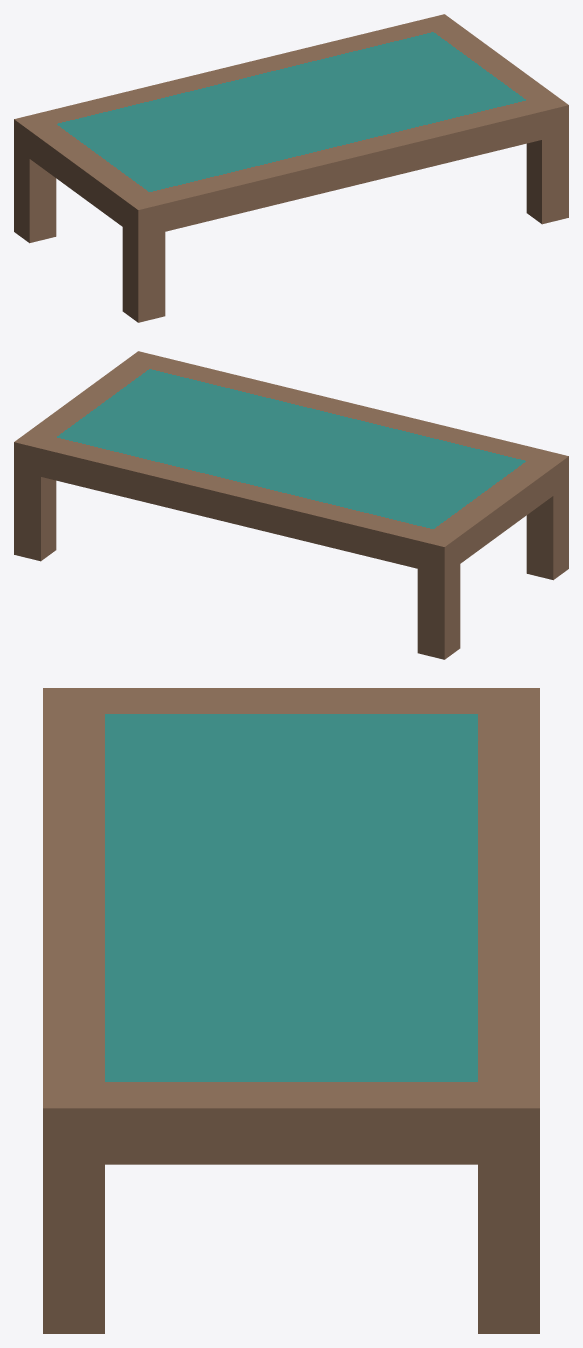
The model's file is mizmoraba.dae.
3 views of the same model, one above another, from view 1: azimuth 30°, elevation 25°; view 2: azimuth 150°, elevation 25°; view 3: azimuth 270°, elevation 25° (orthographic). The views are drawn at different scales.
Visible parts, largest first — view 1: mizmoraba; view 2: mizmoraba; view 3: mizmoraba.
Part boxes in pixels (x1,y1,x2,y2): mizmoraba: [14, 14, 568, 322]; mizmoraba: [14, 351, 568, 659]; mizmoraba: [43, 688, 539, 1333].
Size of the model in its own units: 1.6 by 0.8 by 0.4.
1 material, 1 textured.
